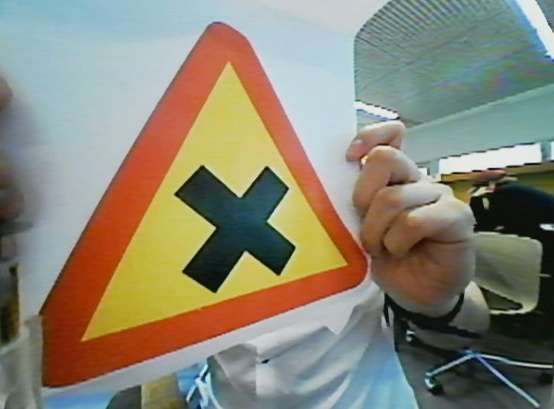junction: (44, 27, 411, 409)
